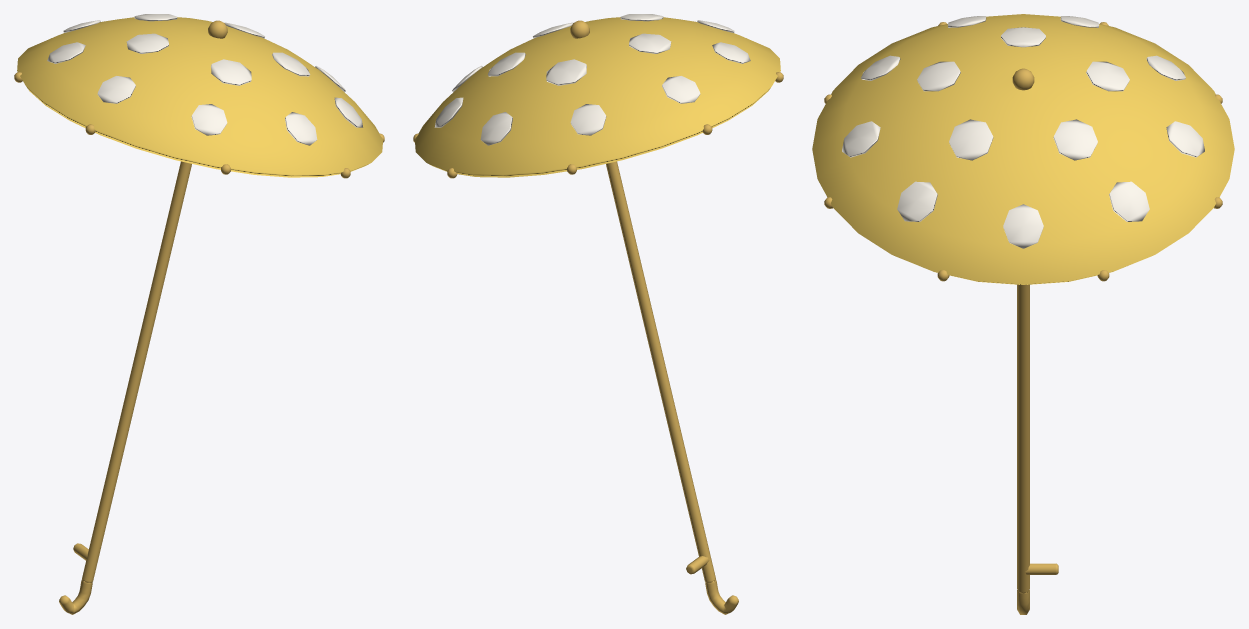
Rendered from eggy_parasol.glb.
3 renders of one model, left to right at view 1: azimuth 30°, elevation 25°; view 2: azimuth 150°, elevation 25°; view 3: azimuth 270°, elevation 25°, orthographic. The views are drawn at different scales.
Visible parts, largest first — view 1: eggy_parasol_ArmR; view 2: eggy_parasol_ArmR; view 3: eggy_parasol_ArmR.
Boxes of the visible parts, bbox=[...] form: eggy_parasol_ArmR: bbox=[14, 14, 384, 614]; eggy_parasol_ArmR: bbox=[413, 14, 783, 614]; eggy_parasol_ArmR: bbox=[812, 14, 1234, 614].
Size of the model in its own units: 0.8703 by 1.47 by 0.9.
